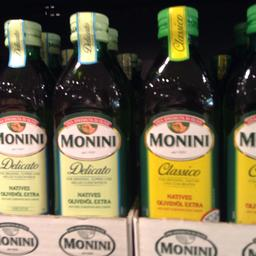oil: (132, 4, 222, 218), (52, 11, 126, 216), (0, 18, 51, 212)
